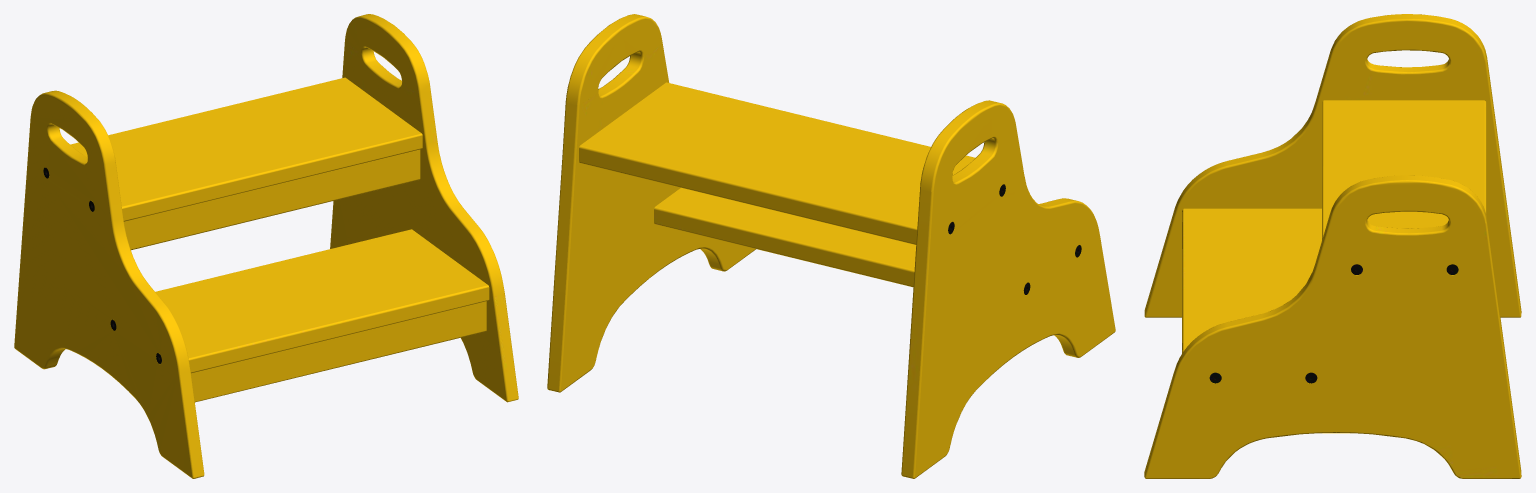
Rendered from trogen_taboret_dzieciecy_80371520.glb.
The picture shows the model from 3 angles, left to right: view 1: azimuth 30°, elevation 25°; view 2: azimuth 150°, elevation 25°; view 3: azimuth 270°, elevation 25°; orthographic projection. The views are drawn at different scales.
Parts seen in each view (by area): view 1: trogen_taboret_dzieciecy_80371520; view 2: trogen_taboret_dzieciecy_80371520; view 3: trogen_taboret_dzieciecy_80371520.
Boxes of the visible parts, bbox=[...] form: trogen_taboret_dzieciecy_80371520: bbox=[14, 14, 518, 478]; trogen_taboret_dzieciecy_80371520: bbox=[547, 14, 1115, 478]; trogen_taboret_dzieciecy_80371520: bbox=[1144, 14, 1521, 478].
Bounding box in the file's own units: 0.398 × 0.331 × 0.3785.
Materials: 1 (1 with a texture image).
